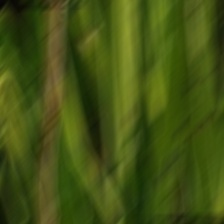Leaf_Blast: (30, 8, 66, 224)
